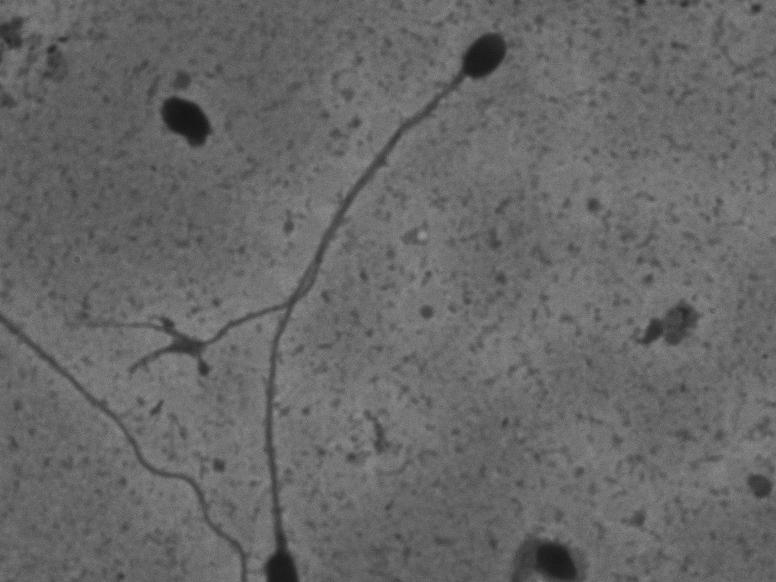Normal: (120, 17, 514, 379)
